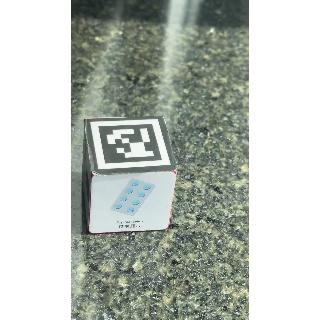Tablet: (95, 173, 177, 236)
